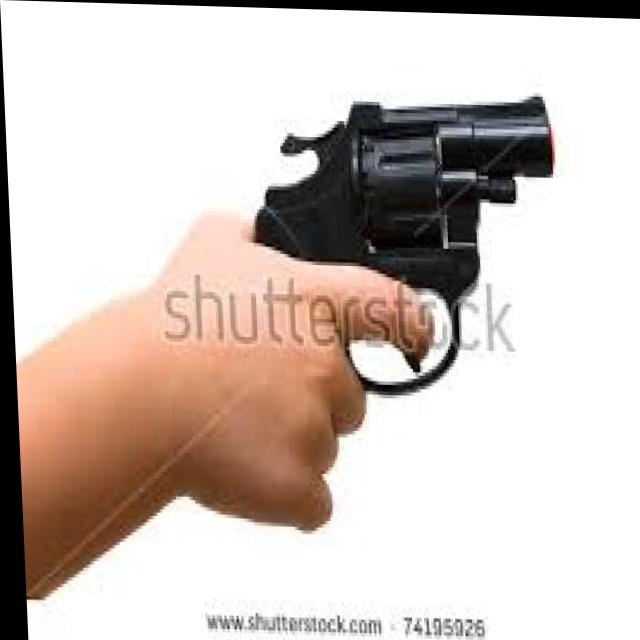handgun: (228, 53, 567, 400)
